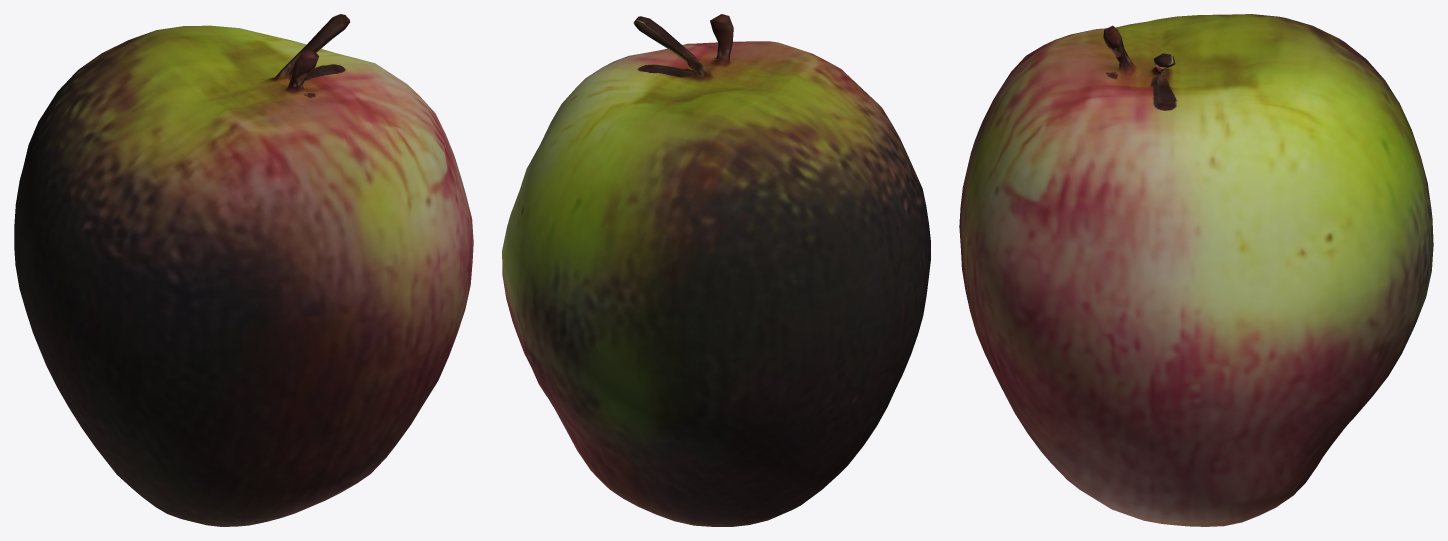
The model's file is rottenApple.fbx.
3 renders of one model, left to right at view 1: azimuth 30°, elevation 25°; view 2: azimuth 150°, elevation 25°; view 3: azimuth 270°, elevation 25°, orthographic. The views are drawn at different scales.
Visible parts, largest first — view 1: mesh; view 2: mesh; view 3: mesh.
Part boxes in pixels (x1=…): mesh: x1=14, y1=14, x2=473, y2=526; mesh: x1=502, y1=14, x2=930, y2=526; mesh: x1=959, y1=14, x2=1433, y2=526.
Size of the model in its own units: 85.12 by 99.74 by 85.96.
